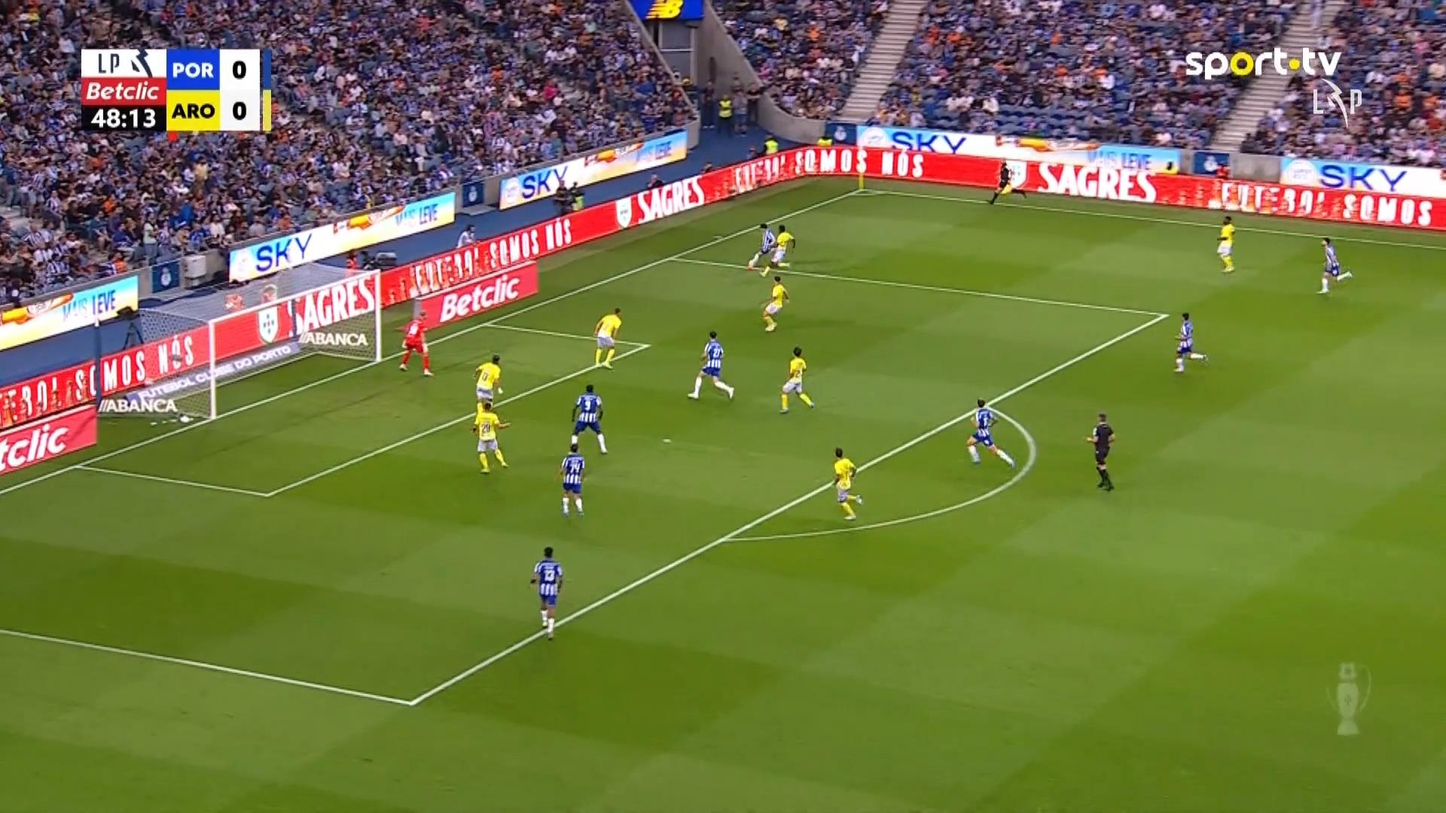goalkeeper: (397, 309, 433, 376)
player: (966, 397, 1015, 468), (686, 330, 734, 400), (529, 546, 564, 639), (471, 398, 511, 473), (569, 383, 608, 454), (778, 346, 816, 414), (831, 446, 862, 520), (557, 441, 586, 516), (1316, 236, 1353, 294), (1173, 311, 1207, 373), (472, 352, 503, 415), (759, 223, 795, 276), (593, 306, 622, 369), (760, 274, 789, 332), (746, 221, 776, 271), (1216, 215, 1236, 273)
referee: (1084, 412, 1115, 490), (987, 158, 1027, 205)
